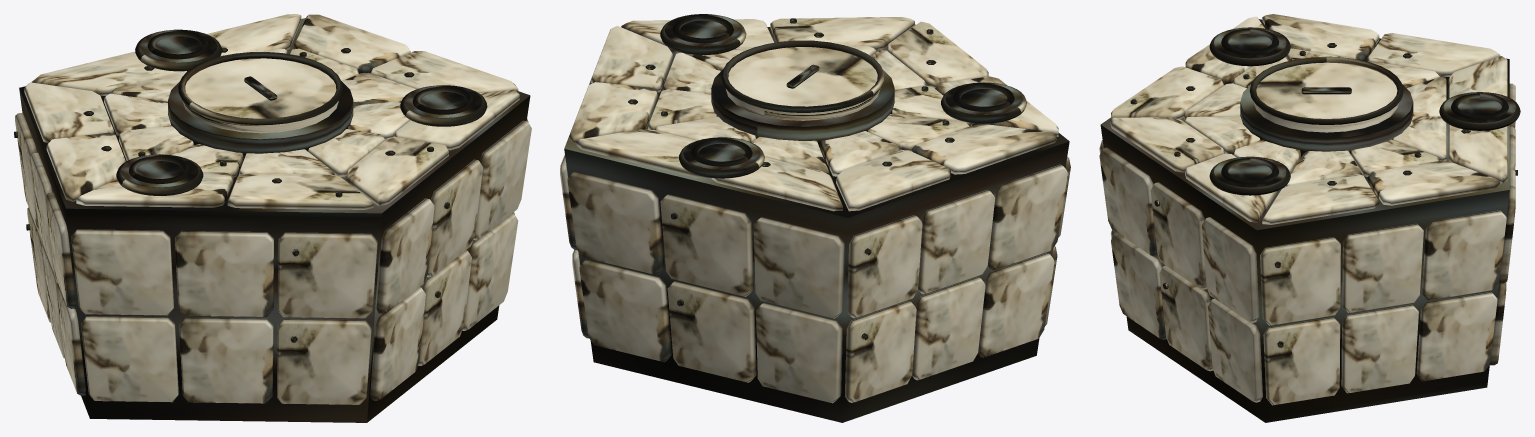
Rendered from body-sentinel-astra3-v3.glb.
3 renders of one model, left to right at view 1: azimuth 30°, elevation 25°; view 2: azimuth 150°, elevation 25°; view 3: azimuth 270°, elevation 25°, orthographic. The views are drawn at different scales.
Visible parts, largest first — view 1: sentinel-detail-ceramic, sentinel-steel, sentinel-detail-metal, sentinel-detail-brass; view 2: sentinel-detail-ceramic, sentinel-steel, sentinel-detail-metal, sentinel-detail-brass; view 3: sentinel-detail-ceramic, sentinel-steel, sentinel-detail-metal, sentinel-detail-brass.
Boxes of the visible parts, x1,y1,x2,y2 form: sentinel-detail-ceramic: [15, 14, 531, 404]; sentinel-steel: [19, 18, 530, 422]; sentinel-detail-metal: [121, 29, 482, 187]; sentinel-detail-brass: [14, 29, 487, 342]; sentinel-detail-ceramic: [560, 17, 1070, 403]; sentinel-steel: [564, 24, 1069, 422]; sentinel-detail-metal: [664, 14, 1022, 178]; sentinel-detail-brass: [628, 14, 1026, 340]; sentinel-detail-ceramic: [1099, 14, 1515, 405]; sentinel-steel: [1100, 19, 1509, 422]; sentinel-detail-metal: [1214, 27, 1516, 187]; sentinel-detail-brass: [1130, 27, 1520, 347].
Bounding box in the file's own units: 1.4 × 0.7855 × 1.17.
Materials: 4 (4 with a texture image).
